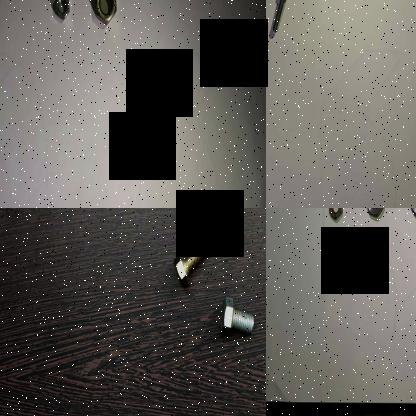Bolts: (170, 231, 210, 294), (219, 290, 257, 343), (267, 0, 293, 37)
NUTS: (92, 0, 120, 28), (325, 208, 346, 232), (362, 208, 385, 225), (52, 0, 70, 21)
